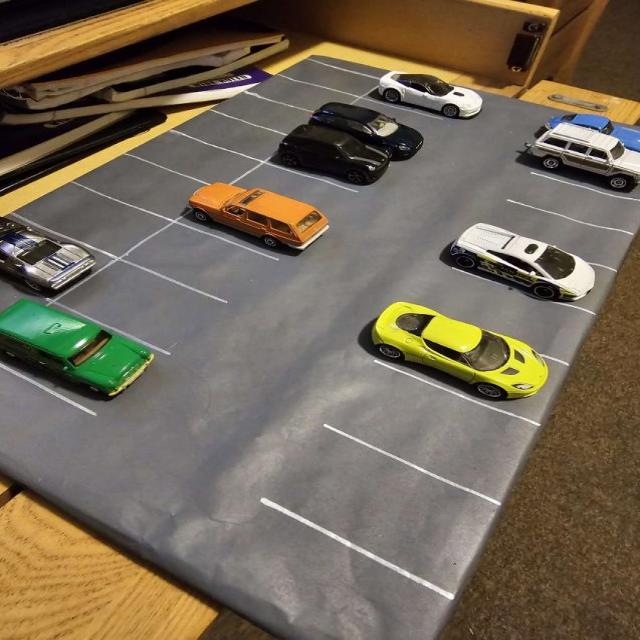Empty: (258, 425, 505, 602), (323, 360, 546, 506), (412, 265, 599, 363), (47, 257, 230, 356), (12, 181, 178, 261), (120, 222, 281, 302), (479, 200, 631, 272), (75, 153, 222, 221), (504, 171, 640, 237), (225, 160, 365, 223), (123, 129, 266, 188), (171, 109, 302, 165), (209, 90, 335, 141), (245, 73, 363, 119), (278, 58, 392, 98)
Taken: (369, 302, 570, 428), (0, 300, 168, 413), (450, 222, 618, 316), (172, 183, 329, 262), (0, 216, 121, 301), (264, 136, 394, 193), (532, 133, 640, 200), (307, 109, 421, 158), (359, 77, 476, 120), (550, 112, 640, 152)
